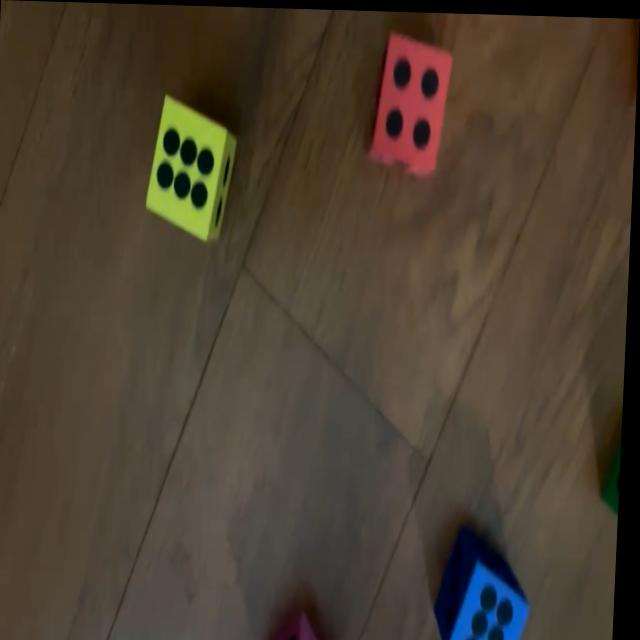blue_block: (438, 529, 536, 640)
red_block: (370, 33, 453, 176)
